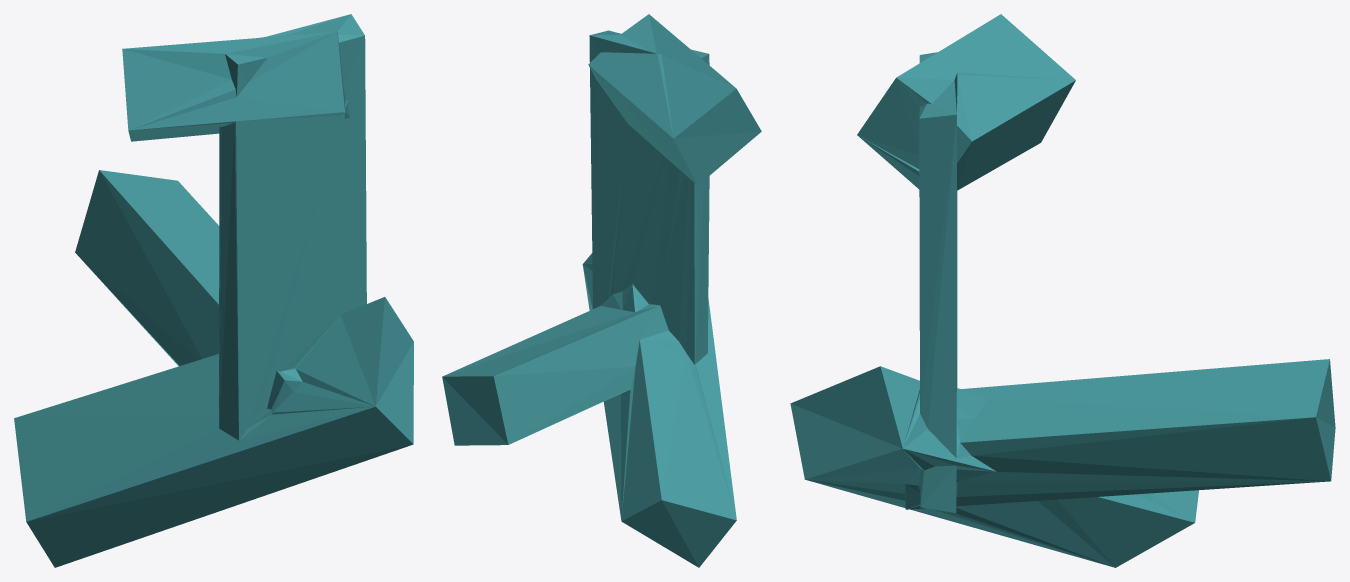
3 views of the same model, side by side, from view 1: azimuth 30°, elevation 25°; view 2: azimuth 150°, elevation 25°; view 3: azimuth 270°, elevation 25° (orthographic). The views are drawn at different scales.
Parts seen in each view (by area): view 1: 790_Cube.3184; view 2: 790_Cube.3184; view 3: 790_Cube.3184.
Boxes of the visible parts, x1,y1,x2,y2 form: 790_Cube.3184: [14, 14, 413, 567]; 790_Cube.3184: [442, 14, 761, 567]; 790_Cube.3184: [790, 14, 1335, 567].
Size of the model in its own units: 9.35 by 17.64 by 15.17.
